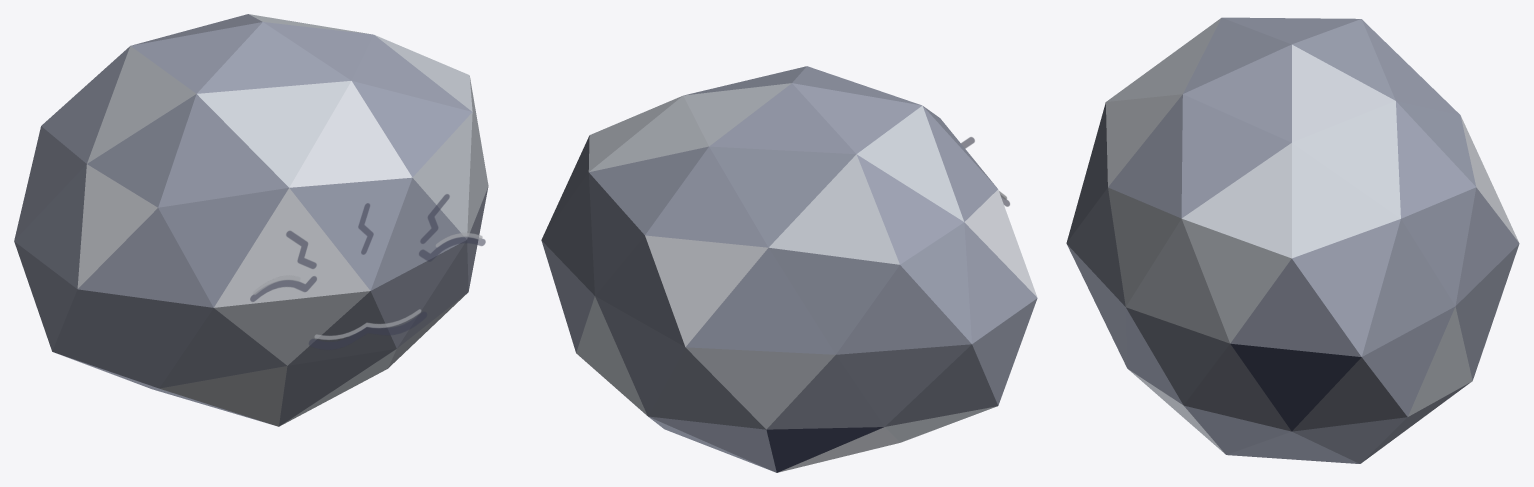
Rendered from asset.glb.
3 views of the same model, side by side, from view 1: azimuth 30°, elevation 25°; view 2: azimuth 150°, elevation 25°; view 3: azimuth 270°, elevation 25° (orthographic). The views are drawn at different scales.
Visible parts, largest first — view 1: Island Boulder, Boulder crack-face paint; view 2: Island Boulder; view 3: Island Boulder.
Part boxes in pixels (<box>): Island Boulder: <box>14,14,488,426</box>; Boulder crack-face paint: <box>250,194,485,349</box>; Island Boulder: <box>541,66,1037,472</box>; Island Boulder: <box>1066,17,1519,463</box>.
Size of the model in its own units: 1.49 by 1.2 by 1.27.
5 materials, 1 textured.
